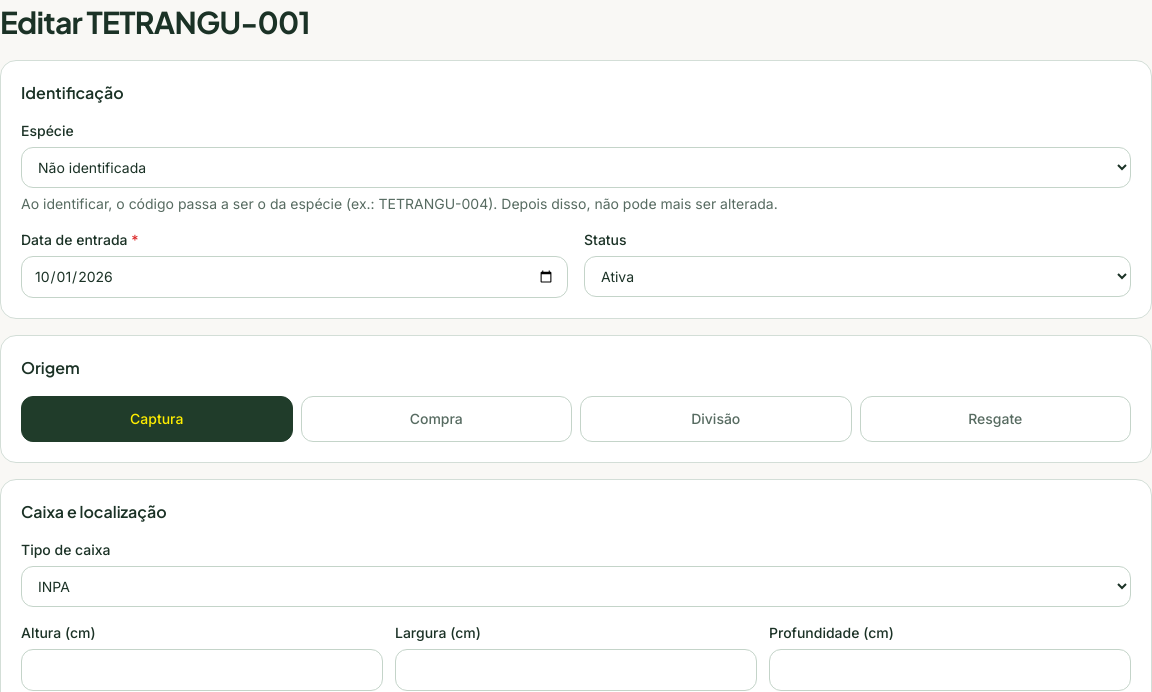
Test case: FormColonia: status, data e motivo › data da mudança anterior à entrada da colônia: não salva e mostra o erro
The width and height of the screenshot is (1152, 692).
Select "Inativa" in the dropdown labelled "Status" at (858, 276), box [584,256,1131,297]
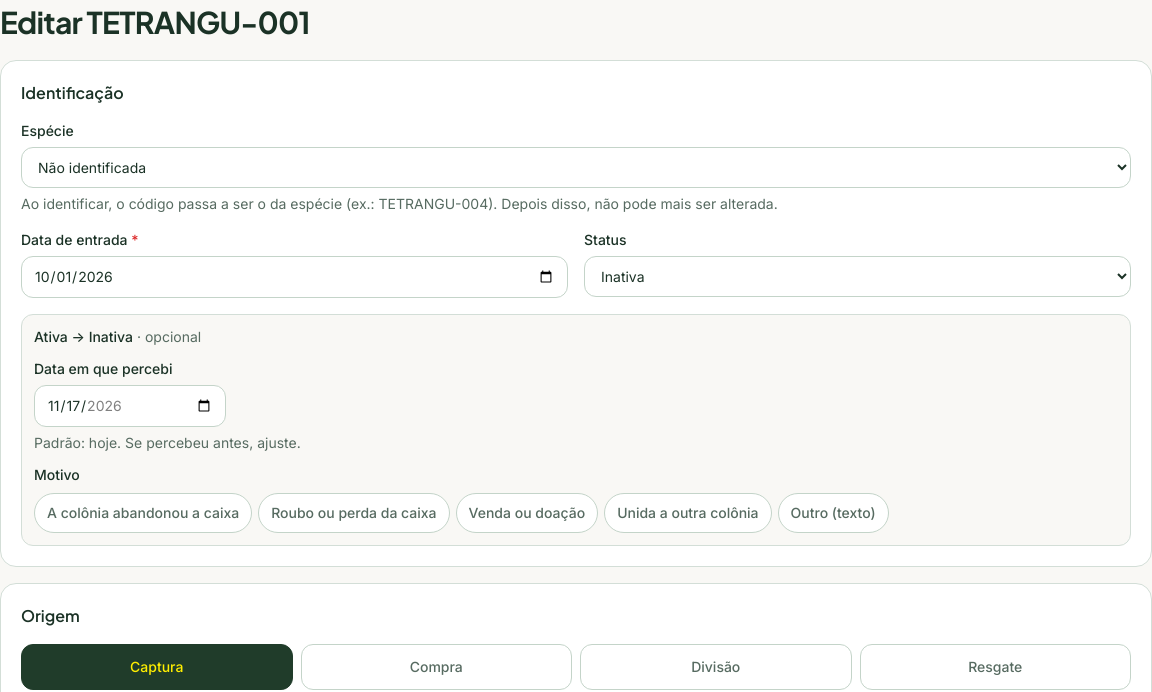
Type "2026-09-01" into the date field labelled "Data em que percebi" at (130, 406), box [34,385,226,427]
(page scrolled)
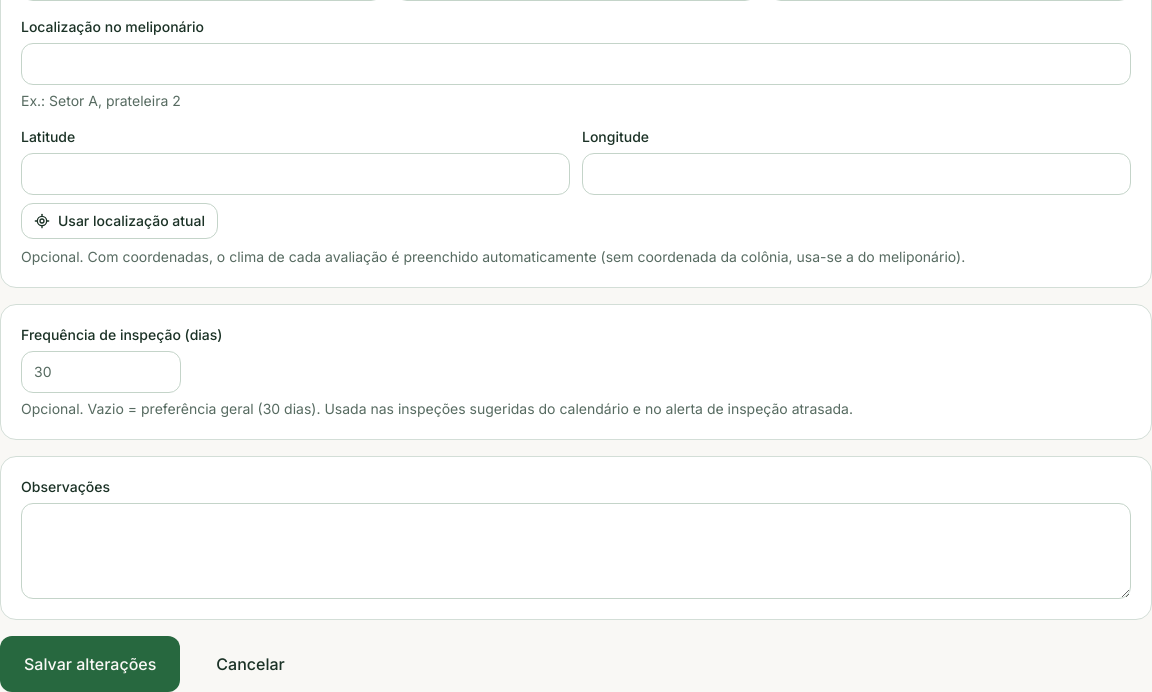
Click the button "Salvar alterações" at (90, 664), box [0,636,180,691]
(page scrolled)
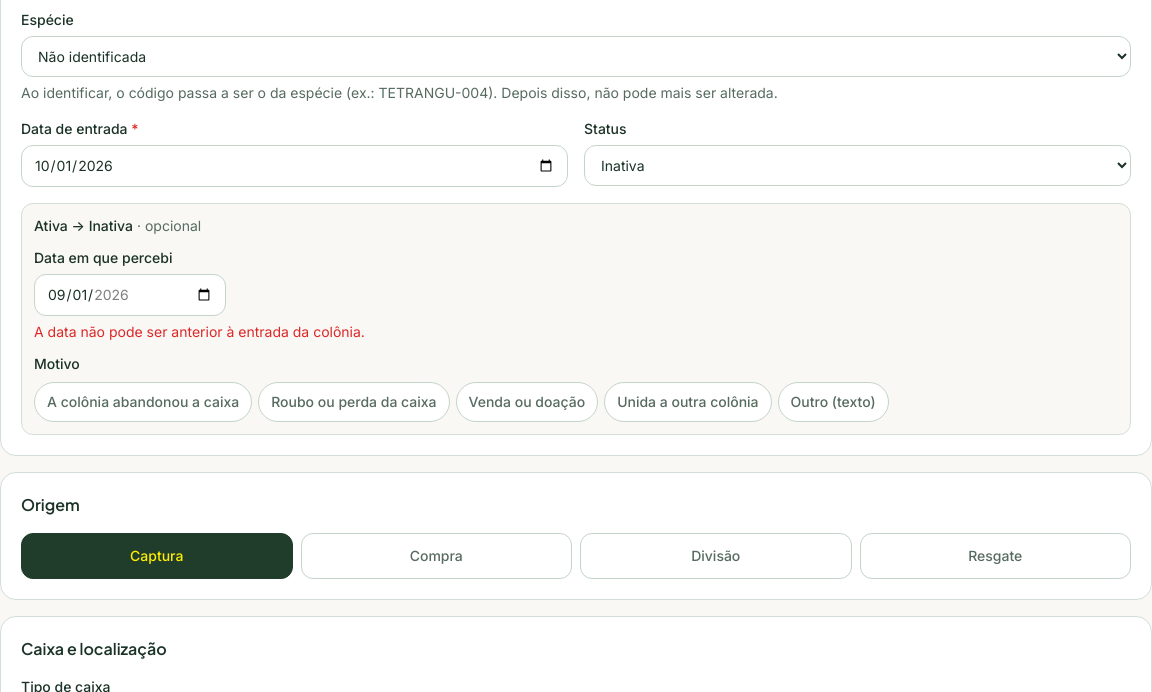
Check: the text "A data não pode ser anterior à entrada da colônia." is shown, box [34,323,365,340]
